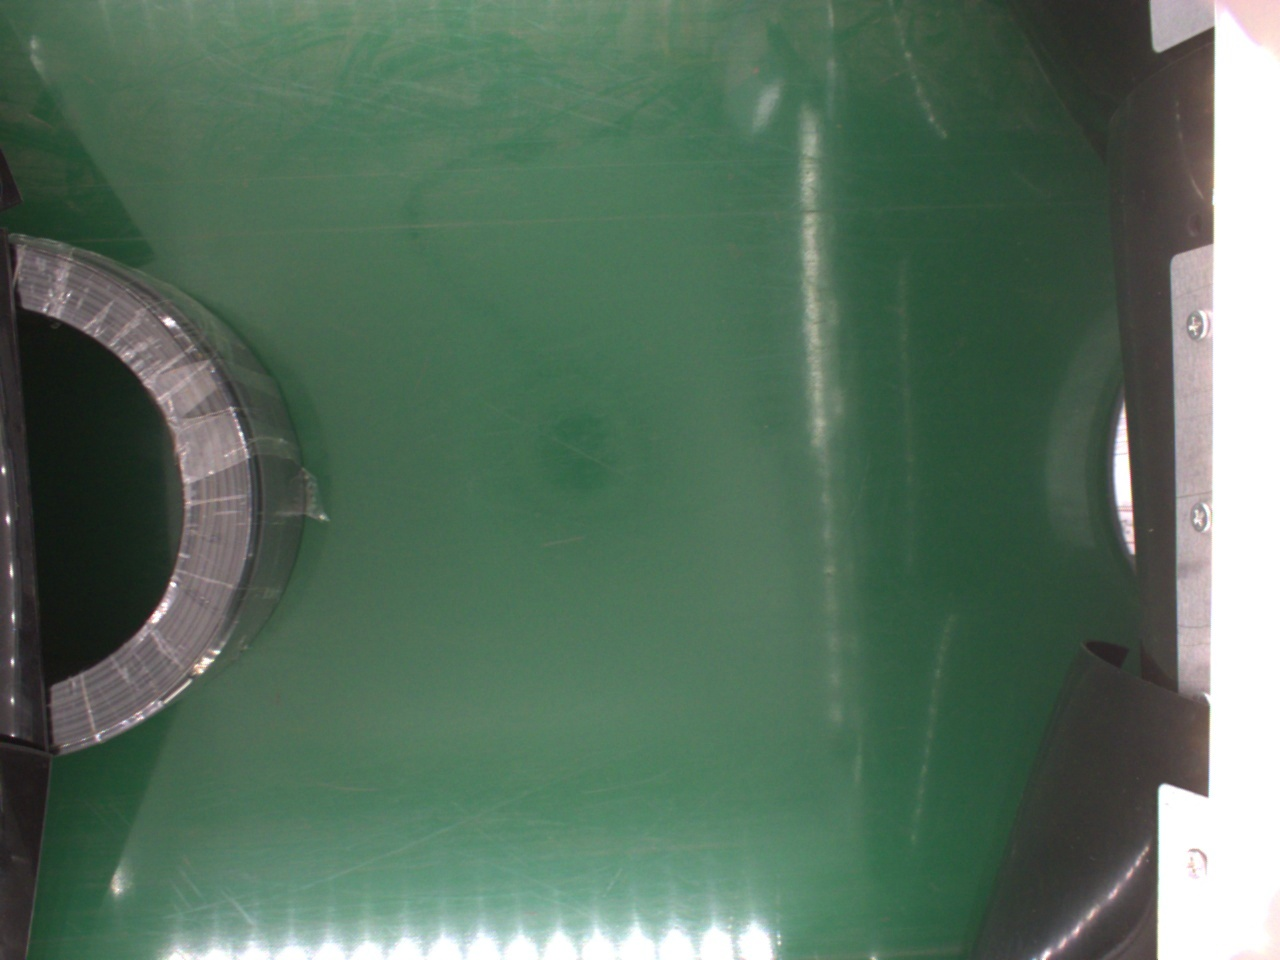black: (9, 226, 311, 756)
